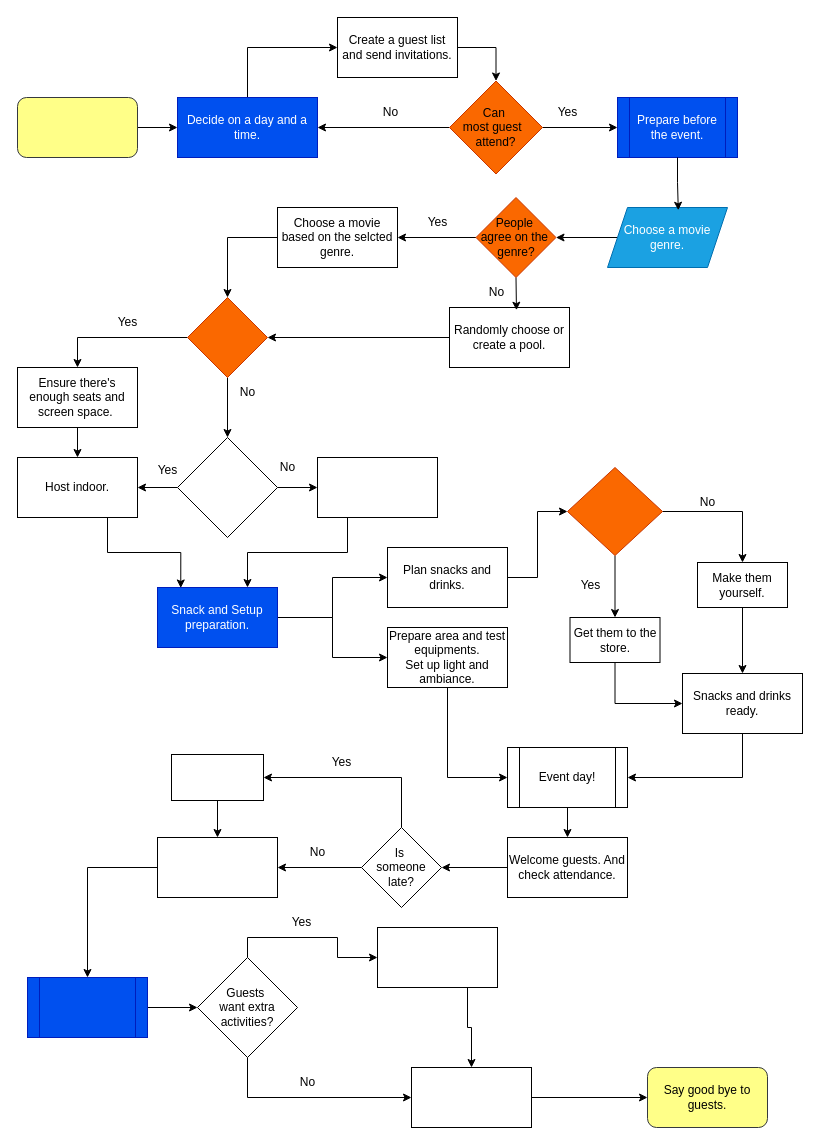
Image size: 820x1145. Some labels were removed from this diagram. Here are the shapes that lost their labels. From the top down, the centre of each, then its label:
the point at 77,127: Your are about to plan and hosting a moving night.
the point at 227,337: Hosting indoor?
the point at 227,487: Check weather. Is rain expected?
the point at 377,487: Host outdoor.
the point at 614,511: Buying snacks?
the point at 217,777: Wait 10 minutes.
the point at 217,867: Start the movie.
the point at 437,957: Have a discussion activity or play a relared trivia game.
the point at 87,1007: After the movie
the point at 471,1097: Clean up snacks and trash.
